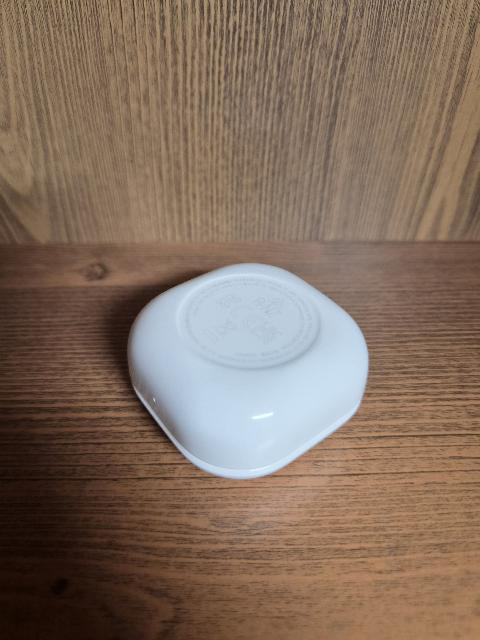earphone_case: (127, 262, 370, 479)
